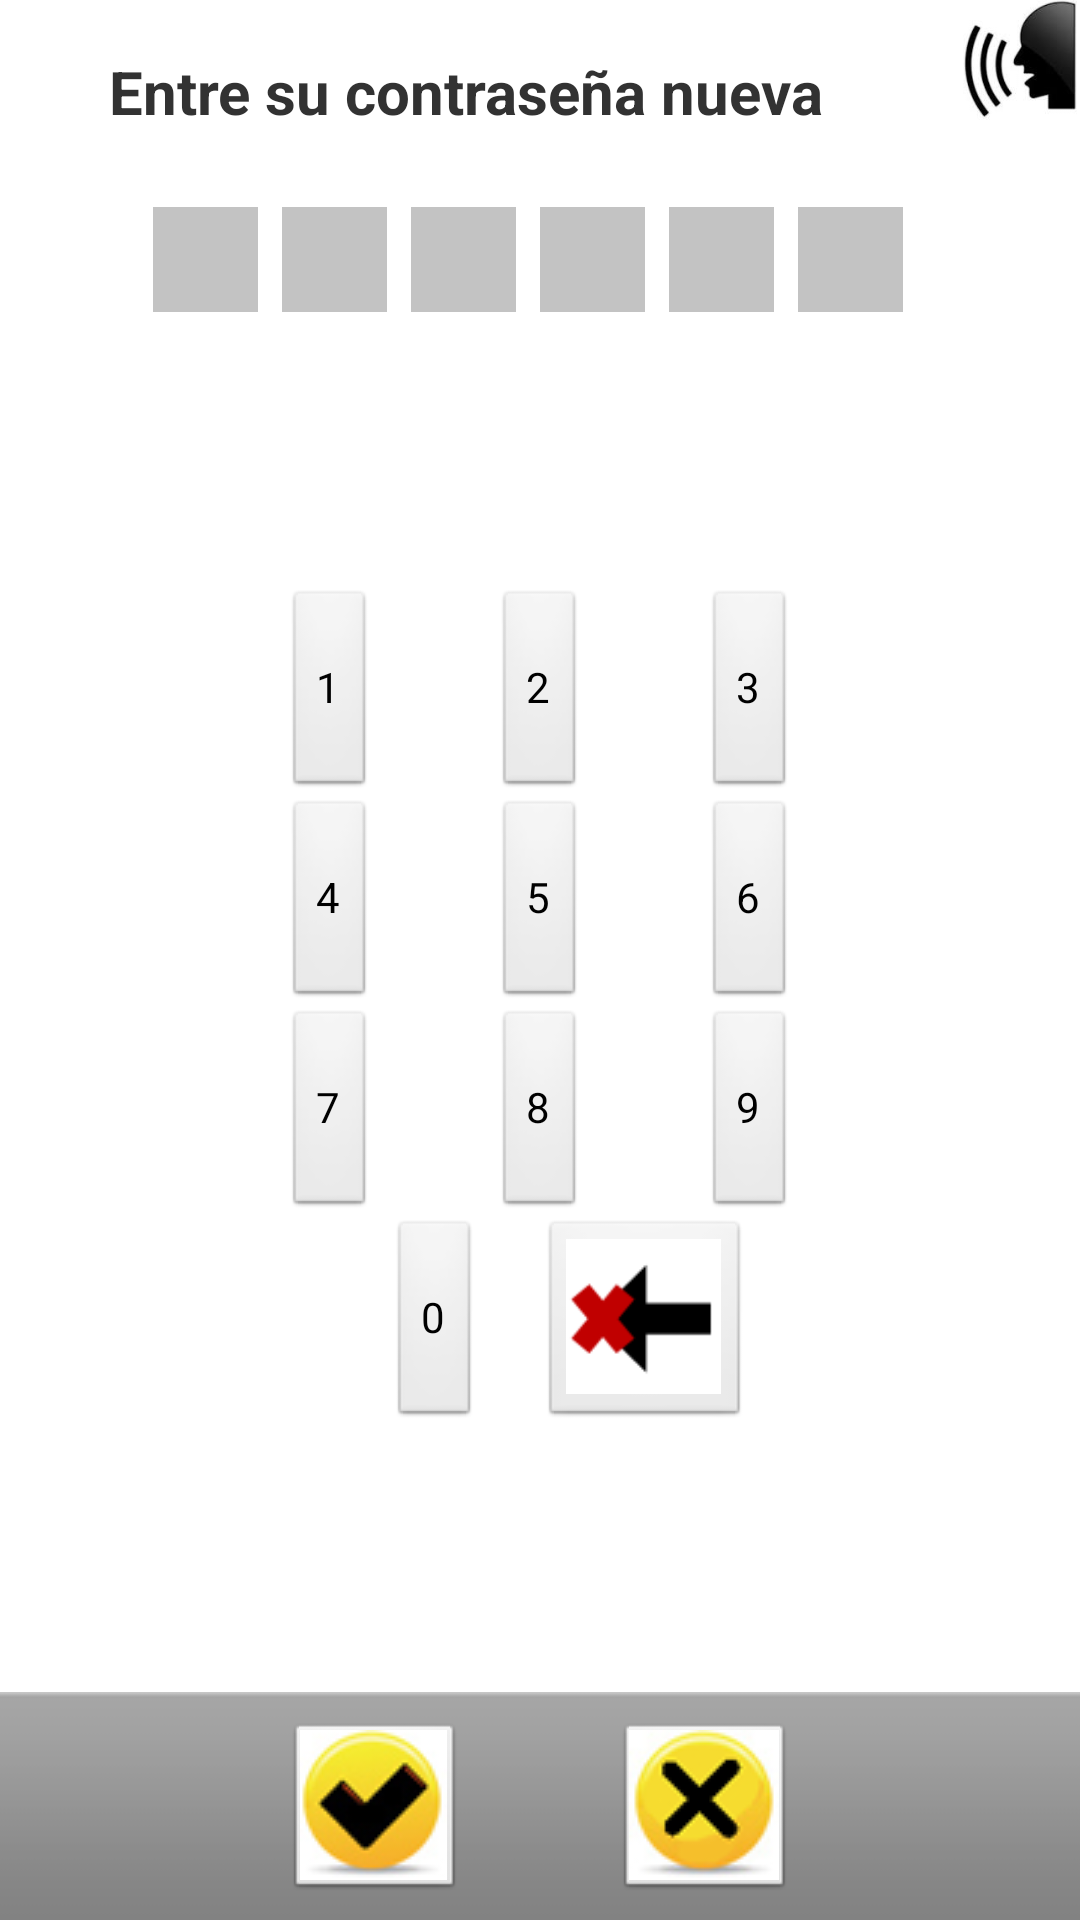

Point at icon controls on the screen. Image size 1080 x 1920, points as (x=x, y=y).
approve: (x=375, y=1804)
Delete: (x=644, y=1320)
remove: (x=705, y=1804)
Sound Icon: (x=1020, y=59)
